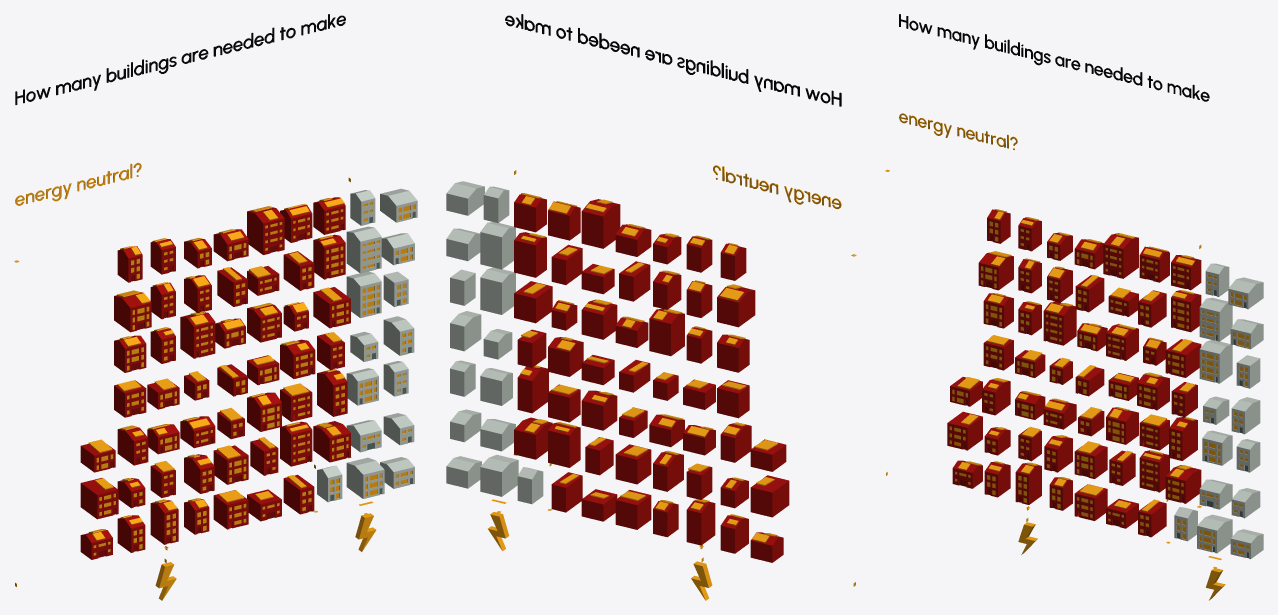
File: Sahne2.gltf
3 renders of one model, left to right at view 1: azimuth 30°, elevation 25°; view 2: azimuth 150°, elevation 25°; view 3: azimuth 330°, elevation 25°, orthographic. The views are drawn at different scales.
Parts seen in each view (by area): view 1: Text.020, Building_071.003, Building_049.003, Building_037.003, Building_072.003, Building_076.003, Building_061.003, Building_067.003, Building_068.003, Building_020.003, Building_064.003, Building_065.003 (+53 smaller); view 2: Text.020, Building_049.003, Building_072.003, Building_071.003, Building_037.003, Building_076.003, Building_020.003, Building_064.003, Building_061.003, Building_067.003, Building_065.003, Building_053.003 (+56 smaller); view 3: Text.020, Building_071.003, Building_049.003, Building_072.003, Building_037.003, Building_076.003, Building_068.003, Building_067.003, Building_020.003, Building_061.003, Building_065.003, Building_064.003 (+51 smaller).
Part boxes in pixels (left/top/right/bottom): Text.020: left=15, top=14, right=345, bottom=104; Building_071.003: left=346, top=226, right=381, bottom=273; Building_049.003: left=247, top=207, right=284, bottom=254; Building_037.003: left=180, top=312, right=215, bottom=358; Building_072.003: left=346, top=271, right=381, bottom=318; Building_076.003: left=346, top=457, right=384, bottom=498; Building_061.003: left=280, top=421, right=312, bottom=466; Building_067.003: left=317, top=370, right=347, bottom=416; Building_068.003: left=313, top=421, right=350, bottom=462; Building_020.003: left=80, top=478, right=118, bottom=519; Building_064.003: left=313, top=234, right=345, bottom=279; Building_065.003: left=313, top=287, right=350, bottom=328; Text.020: left=505, top=14, right=841, bottom=106; Building_049.003: left=581, top=199, right=620, bottom=248; Building_072.003: left=480, top=267, right=515, bottom=314; Building_071.003: left=480, top=222, right=515, bottom=269; Building_037.003: left=649, top=308, right=684, bottom=356; Building_076.003: left=480, top=454, right=518, bottom=496; Building_020.003: left=750, top=475, right=789, bottom=517; Building_064.003: left=514, top=232, right=546, bottom=277; Building_061.003: left=548, top=422, right=580, bottom=467; Building_067.003: left=517, top=366, right=548, bottom=413; Building_065.003: left=514, top=281, right=552, bottom=323; Building_053.003: left=581, top=390, right=617, bottom=430; Text.020: left=899, top=14, right=1209, bottom=101; Building_071.003: left=1199, top=297, right=1232, bottom=341; Building_049.003: left=1103, top=233, right=1138, bottom=278; Building_072.003: left=1199, top=340, right=1232, bottom=383; Building_037.003: left=1043, top=301, right=1076, bottom=345; Building_076.003: left=1197, top=514, right=1232, bottom=553; Building_068.003: left=1165, top=465, right=1201, bottom=503; Building_067.003: left=1169, top=417, right=1197, bottom=460; Building_020.003: left=947, top=411, right=982, bottom=450; Building_061.003: left=1139, top=450, right=1169, bottom=492; Building_065.003: left=1165, top=339, right=1201, bottom=377; Building_064.003: left=1171, top=290, right=1201, bottom=332.
Bounding box in the file's own units: 0.9027 × 1.18 × 0.0652.
